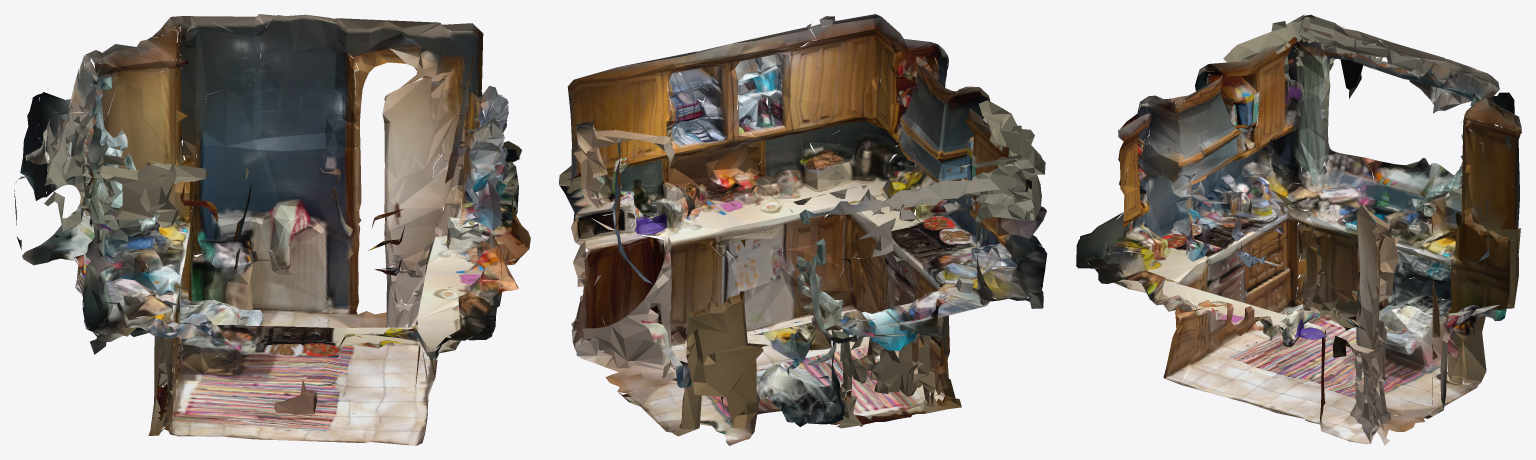
The model's file is NAOMI_house-kitchen-scan.glb.
The picture shows the model from 3 angles, left to right: view 1: azimuth 30°, elevation 25°; view 2: azimuth 150°, elevation 25°; view 3: azimuth 270°, elevation 25°; orthographic projection. The views are drawn at different scales.
Visible parts, largest first — view 1: kitchen.002; view 2: kitchen.002; view 3: kitchen.002.
Boxes of the visible parts, bbox=[...] form: kitchen.002: bbox=[14, 14, 530, 445]; kitchen.002: bbox=[559, 14, 1047, 445]; kitchen.002: bbox=[1076, 14, 1521, 445].
Bounding box in the file's own units: 8.66 × 5 × 7.82.
Materials: 1 (1 with a texture image).
